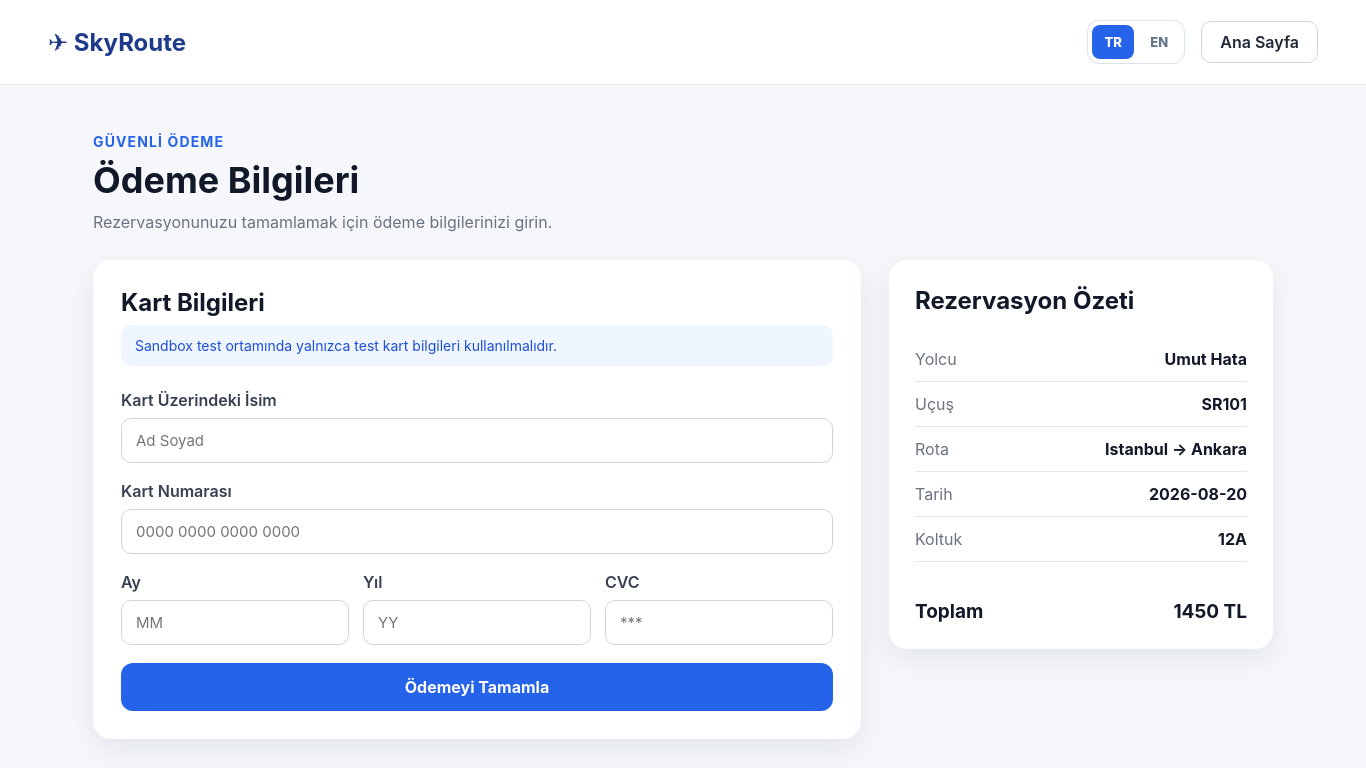
Test: payment frontend flow › shows the backend message when payment returns FAILED
In the field labelled "Kart Üzerindeki İsim": [477, 440] box left=121, top=418, right=833, bottom=463, type "Umut Hata"
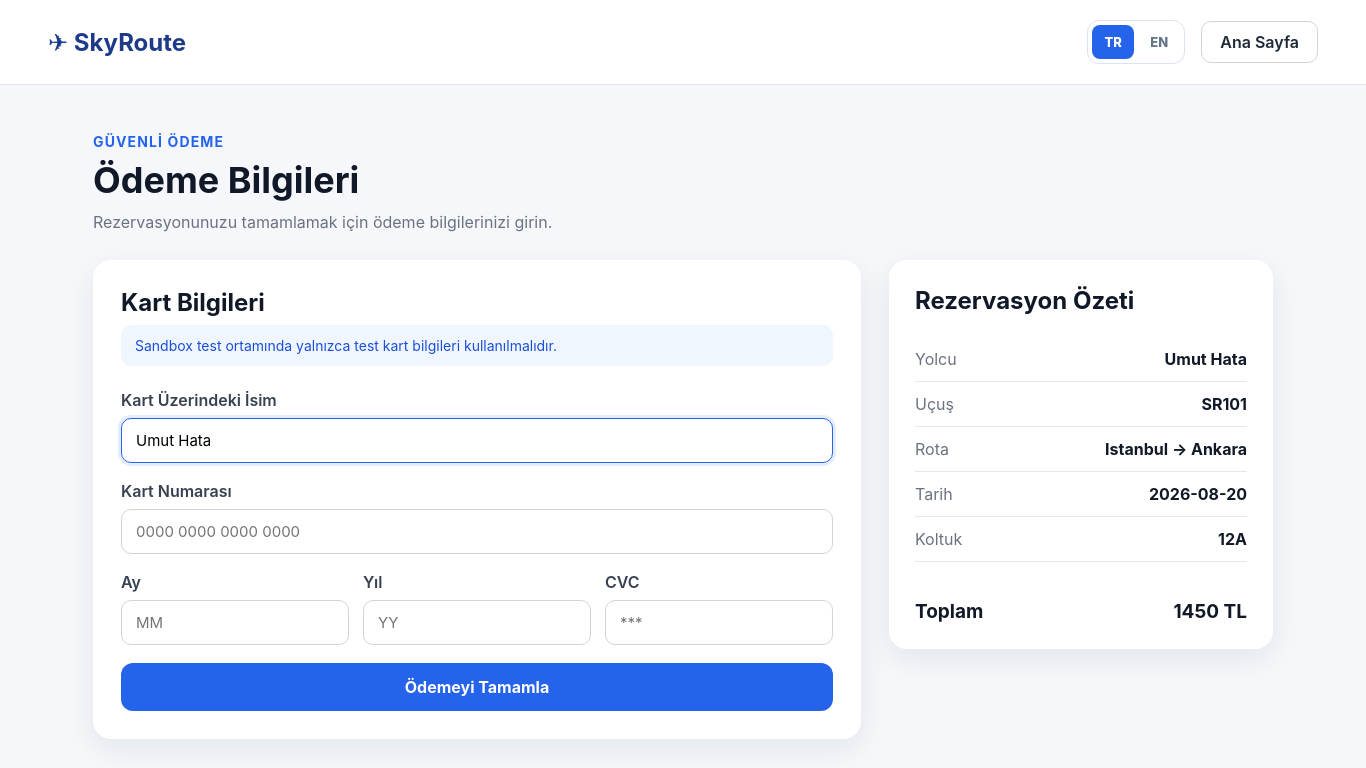
In the field labelled "Kart Numarası": [477, 532] box left=121, top=509, right=833, bottom=554, type "5528 7920 0000 0008"
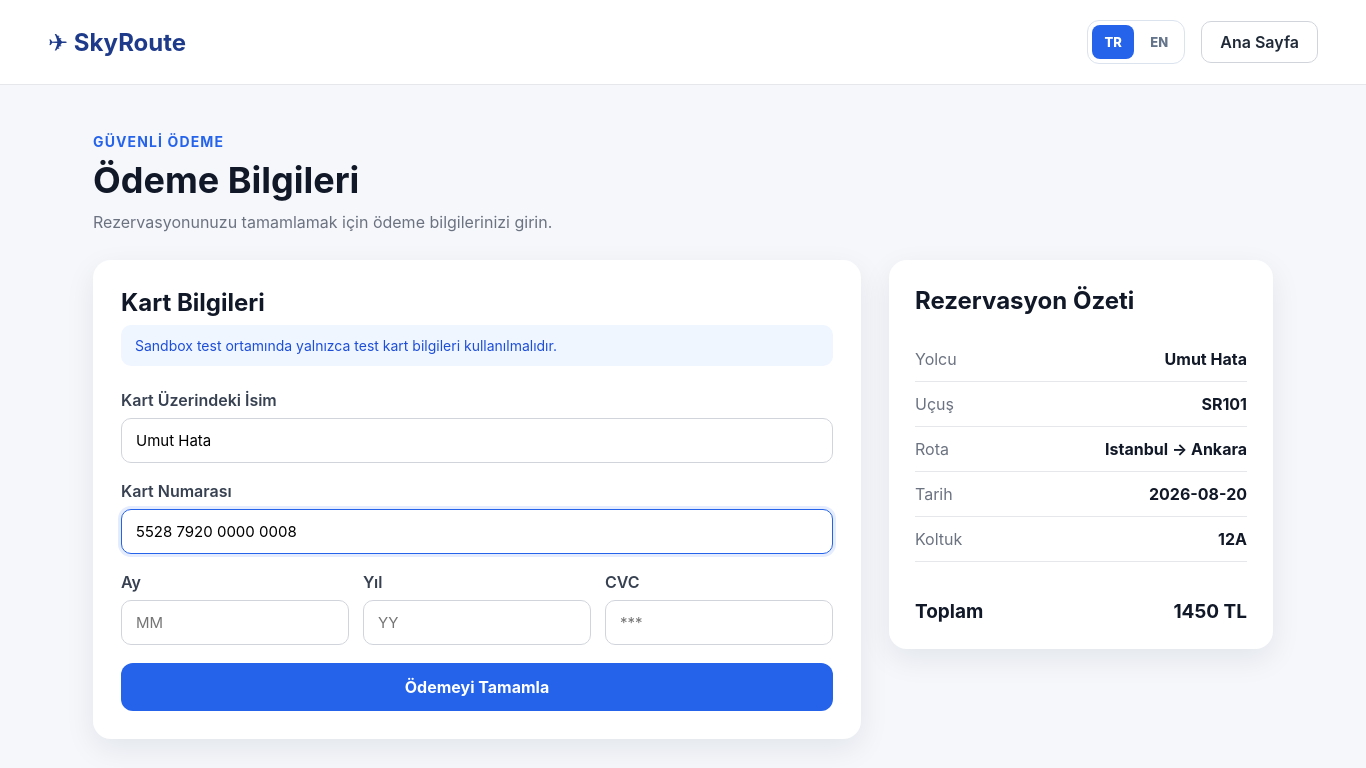
In the field labelled "Ay": [235, 622] box left=121, top=600, right=349, bottom=645, type "12"
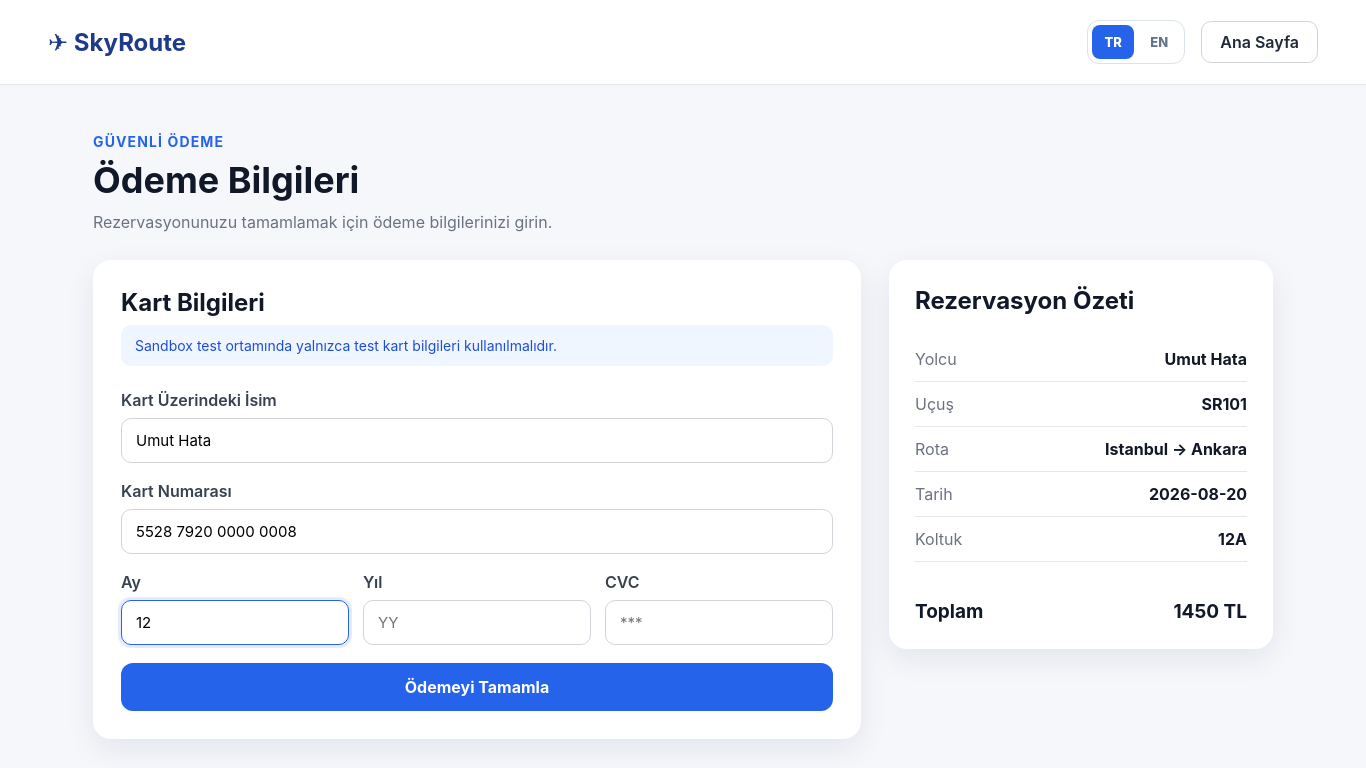
In the field labelled "Yıl": [477, 622] box left=363, top=600, right=591, bottom=645, type "30"
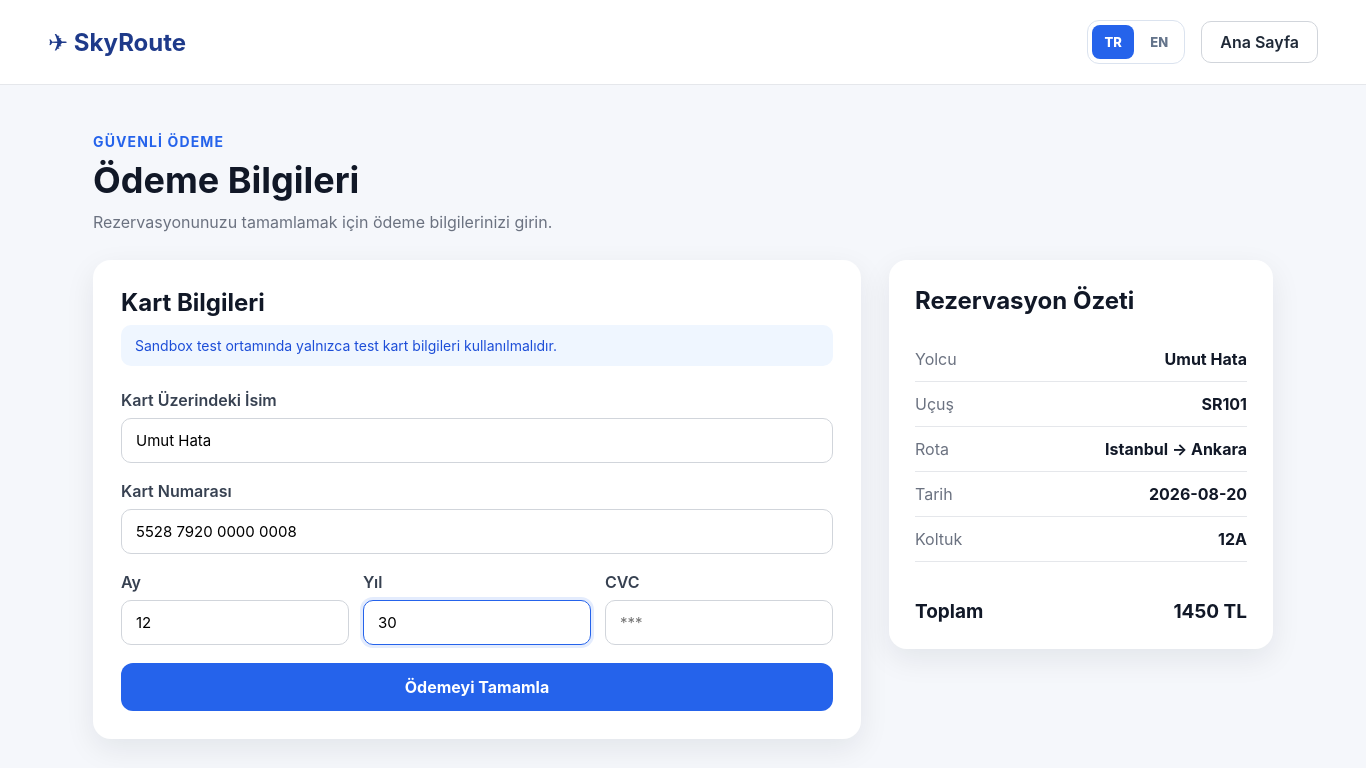
In the password field labelled "CVC": [719, 622] box left=605, top=600, right=833, bottom=645, type "123"
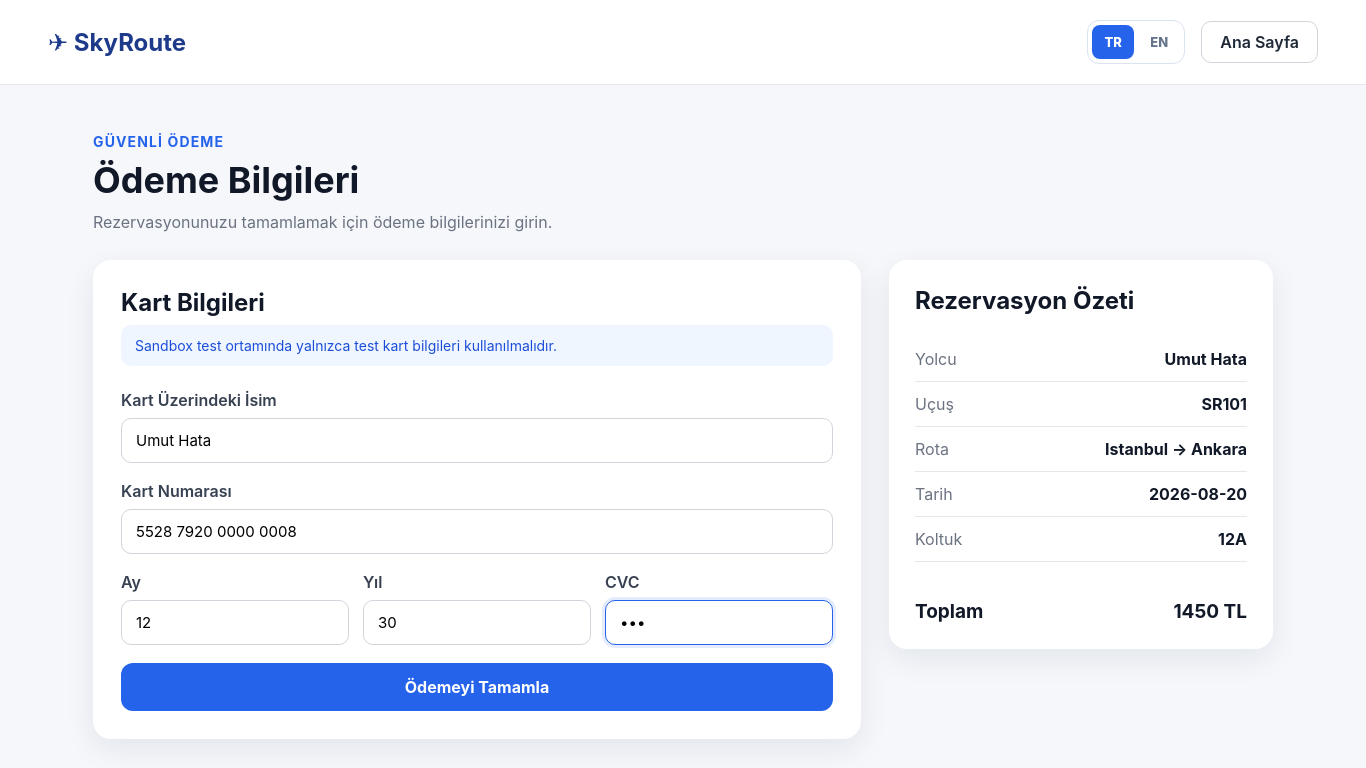
Click the button "Ödemeyi Tamamla": [477, 687] box left=121, top=663, right=833, bottom=711
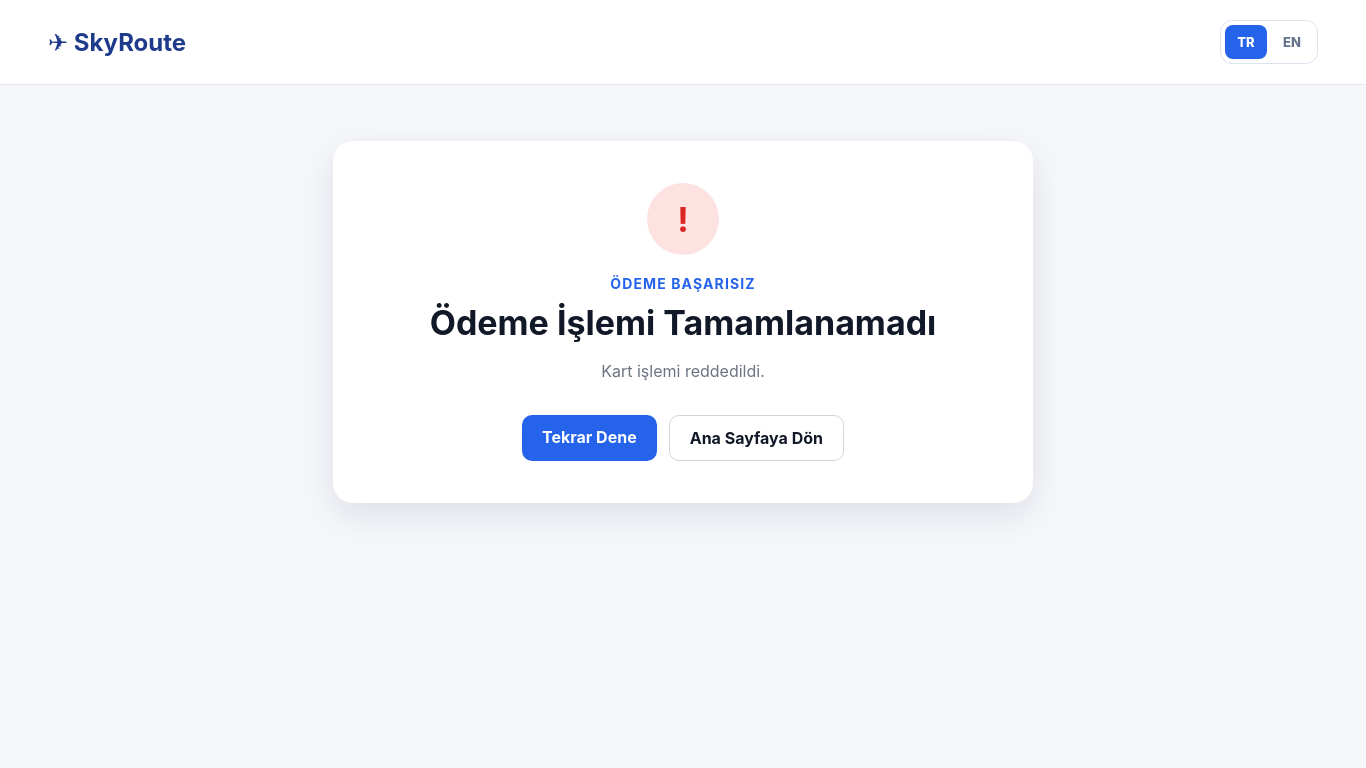
Expected: the heading "Ödeme İşlemi Tamamlanamadı" is shown, left=430, top=302, right=936, bottom=343
Expected: the message reads "Kart işlemi reddedildi.", left=601, top=361, right=765, bottom=381
